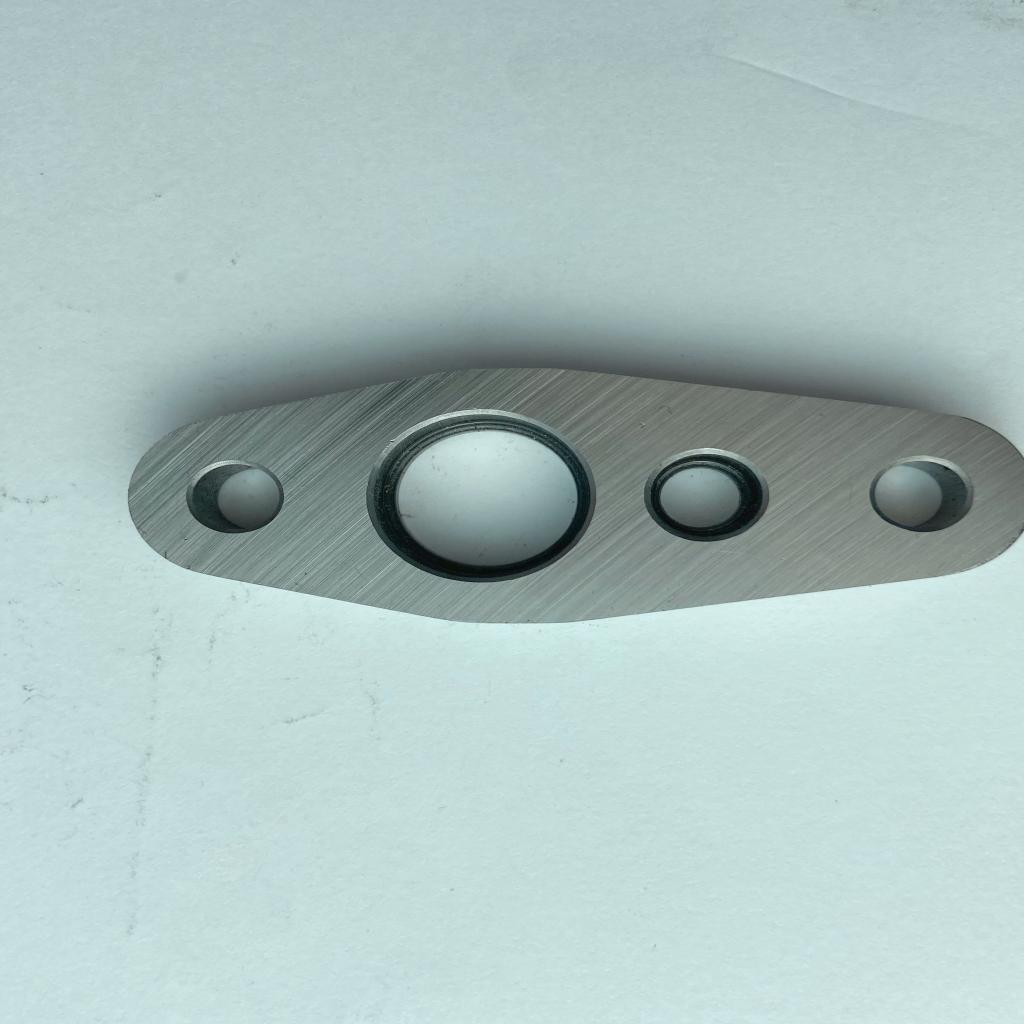chap: (636, 419, 648, 430), (772, 556, 785, 566), (182, 535, 190, 543), (388, 438, 398, 444)
lines: (162, 548, 170, 560)
